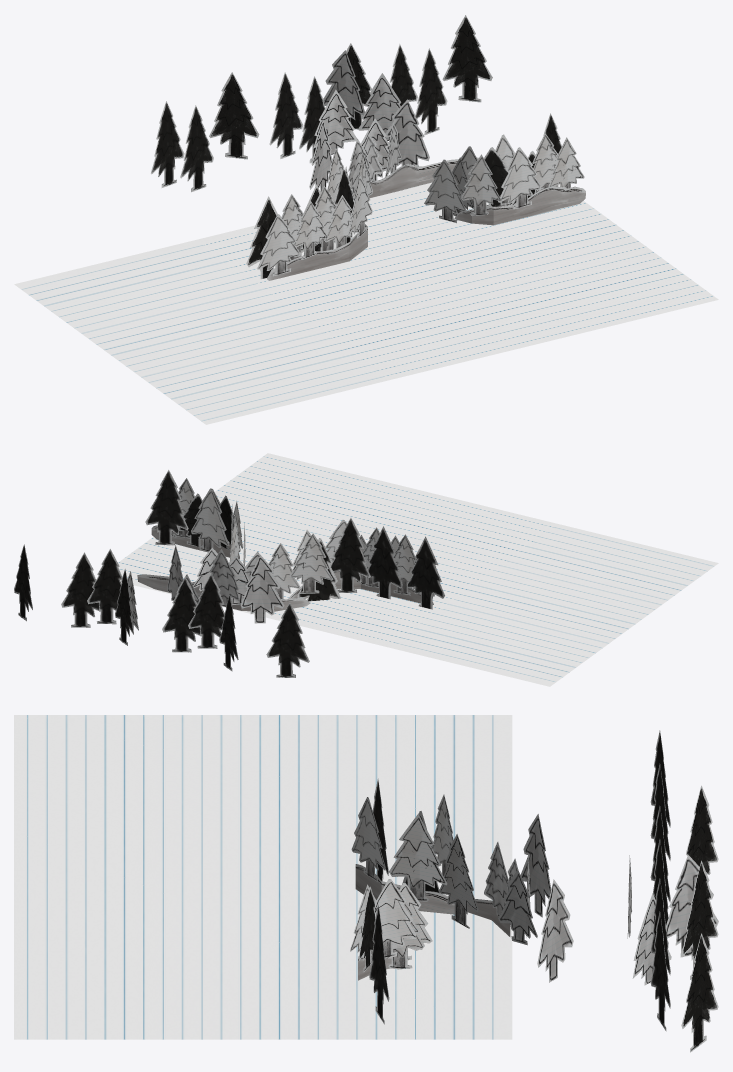
The model's file is test_map.fbx.
The picture shows the model from 3 angles, top to bottom: view 1: azimuth 30°, elevation 25°; view 2: azimuth 150°, elevation 25°; view 3: azimuth 270°, elevation 25°; orthographic projection. The views are drawn at different scales.
Visible parts, largest first — view 1: ground, front_tree_5.009, front_tree_5.006, wall_ground_2, back_tree_2.002, front_tree_5.010, front_tree_5.003, front_tree_5.011, wall_ground_1, front_tree_2.006, front_tree_5.007, front_tree_2.002 (+19 smaller); view 2: ground, front_tree_5.012, front_tree_5.010, back_tree_2.001, front_tree_5.001, front_tree_5.003, front_tree_5.004, front_tree_5.007, front_tree_5.008, front_tree_4.002, front_tree_4.001, front_tree_1.002 (+17 smaller); view 3: ground, front_tree_3.003, front_tree_5.006, back_tree_2.002, front_tree_2.003, front_tree_1.003, front_tree_5.005, back_tree_2.001, back_tree_2.003, back_tree_1.001, front_tree_2.001, front_tree_5.009 (+16 smaller).
Boxes of the visible parts, x1,y1,x2,y2 form: ground: (14,182,718,424); front_tree_5.009: (209,72,259,159); front_tree_5.006: (442,15,492,102); wall_ground_2: (454,186,585,225); back_tree_2.002: (385,99,429,166); front_tree_5.010: (180,105,213,192); front_tree_5.003: (269,72,303,158); front_tree_5.011: (151,101,184,187); wall_ground_1: (267,224,367,280); front_tree_2.006: (257,214,300,276); front_tree_5.007: (415,48,447,135); front_tree_2.002: (498,147,541,209); ground: (118,453,718,686); front_tree_5.012: (145,470,188,545); front_tree_5.010: (266,602,309,677); back_tree_2.001: (240,555,284,623); front_tree_5.001: (330,518,370,592); front_tree_5.003: (188,573,224,648); front_tree_5.004: (162,577,201,652); front_tree_5.007: (61,552,100,627); front_tree_5.008: (87,549,122,624); front_tree_4.002: (406,536,444,609); front_tree_4.001: (364,526,402,599); front_tree_1.002: (289,533,333,593); ground: (14,715,512,1039); front_tree_3.003: (389,813,447,901); front_tree_5.006: (681,933,718,1052); back_tree_2.002: (537,879,573,982); front_tree_2.003: (359,879,415,958); front_tree_1.003: (439,834,478,928); front_tree_5.005: (681,860,718,979); back_tree_2.001: (520,814,551,917); back_tree_2.003: (665,855,718,957); back_tree_1.001: (498,870,537,945); front_tree_2.001: (351,797,385,882); front_tree_5.009: (686,785,718,874).
Bounding box in the file's own units: 163 × 30.69 × 141.
11 materials, 11 textured.
